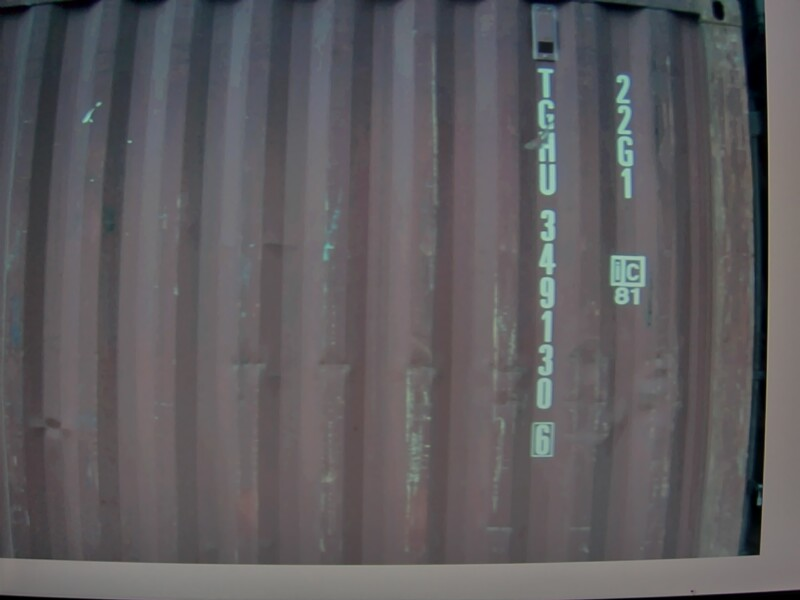container_no_door: (143, 50, 739, 494)
